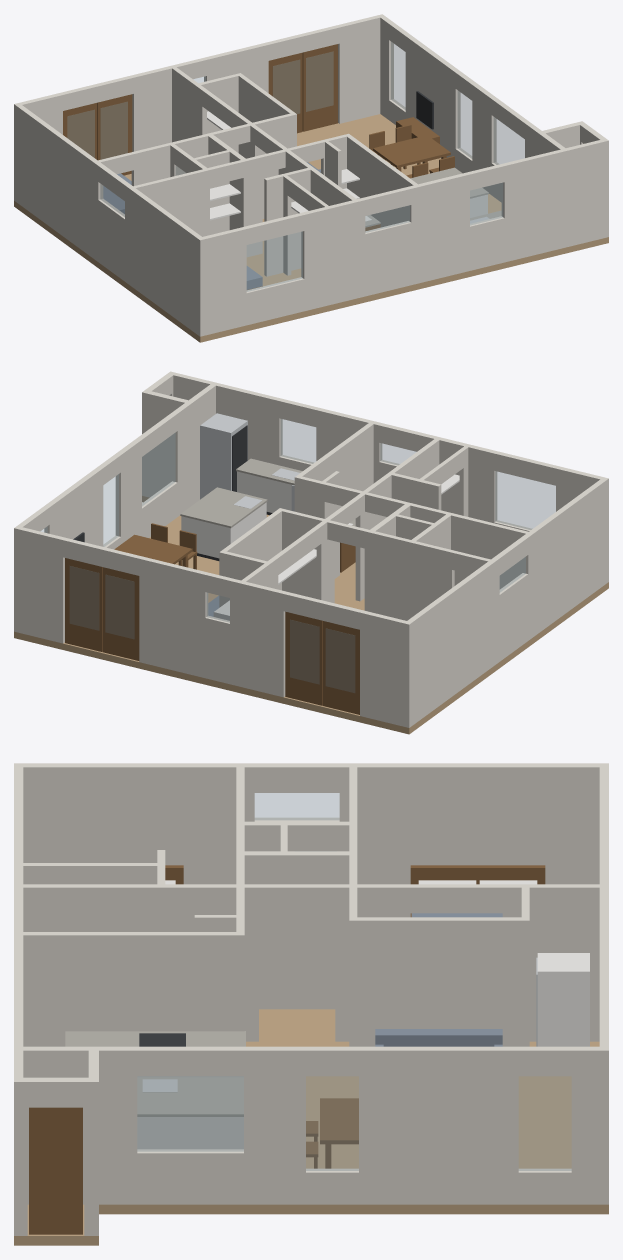
File: adu-896.glb
The picture shows the model from 3 angles, top to bottom: view 1: azimuth 30°, elevation 25°; view 2: azimuth 150°, elevation 25°; view 3: azimuth 270°, elevation 25°; orthographic projection. The views are drawn at different scales.
Parts seen in each view (by area): view 1: ext_west_0, ext_west_3, slab_main, ext_south_9, ext_south_3, ext_south_6, ext_south_0, ext_north_7, ext_east_3, wh_south_0, ext_north_2, ext_south_4 (+57 smaller); view 2: ext_west_0, ext_west_3, ext_north_5, p_bed101_bath105_1, slab_main, ext_north_2, ext_north_0, ext_north_7, ext_south_9, ext_east_9, d01_bed101_R, d02_living_R (+60 smaller); view 3: ext_west_0, ext_east_3, ext_west_3, p_bath107_e_0, p_closet101_e_0, slab_main, p_spine_4, p_hall_w_0, ext_east_6, ext_east_9, win7_kitchen, p_spine_0 (+34 smaller).
Boxes of the visible parts, left/top/right/bottom form: ext_west_0: left=14, top=104, right=103, bottom=261; ext_west_3: left=125, top=184, right=205, bottom=336; slab_main: left=14, top=114, right=568, bottom=342; ext_south_9: left=501, top=148, right=568, bottom=262; ext_south_3: left=301, top=198, right=365, bottom=311; ext_south_6: left=408, top=172, right=469, bottom=284; ext_south_0: left=197, top=227, right=246, bottom=336; ext_north_7: left=337, top=14, right=384, bottom=123; ext_east_3: left=405, top=35, right=460, bottom=167; wh_south_0: left=566, top=139, right=608, bottom=246; ext_north_2: left=131, top=63, right=183, bottom=151; ext_south_4: left=365, top=221, right=411, bottom=296; ext_west_0: left=404, top=557, right=499, bottom=727; ext_west_3: left=522, top=477, right=608, bottom=640; ext_north_5: left=139, top=556, right=208, bottom=677; p_bed101_bath105_1: left=364, top=529, right=454, bottom=620; slab_main: left=14, top=514, right=608, bottom=734; ext_north_2: left=230, top=578, right=286, bottom=697; ext_north_0: left=360, top=610, right=412, bottom=727; ext_north_7: left=14, top=526, right=65, bottom=643; ext_south_9: left=211, top=382, right=282, bottom=465; ext_east_9: left=172, top=382, right=218, bottom=516; d01_bed101_R: left=285, top=611, right=322, bottom=705; d02_living_R: left=65, top=558, right=102, bottom=651; ext_west_0: left=339, top=763, right=608, bottom=917; ext_east_3: left=359, top=1046, right=518, bottom=1204; ext_west_3: left=14, top=763, right=254, bottom=884; p_bath107_e_0: left=23, top=932, right=244, bottom=1046; p_closet101_e_0: left=349, top=917, right=529, bottom=1046; slab_main: left=99, top=1009, right=608, bottom=1214; p_spine_4: left=23, top=884, right=258, bottom=1041; p_hall_w_0: left=236, top=851, right=349, bottom=1009; ext_east_6: left=244, top=1046, right=305, bottom=1204; ext_east_9: left=14, top=1046, right=137, bottom=1204; win7_kitchen: left=137, top=1076, right=243, bottom=1151; p_spine_0: left=502, top=884, right=599, bottom=1041.
Bounding box in the file's own units: 10.82 × 2.59 × 8.53.
